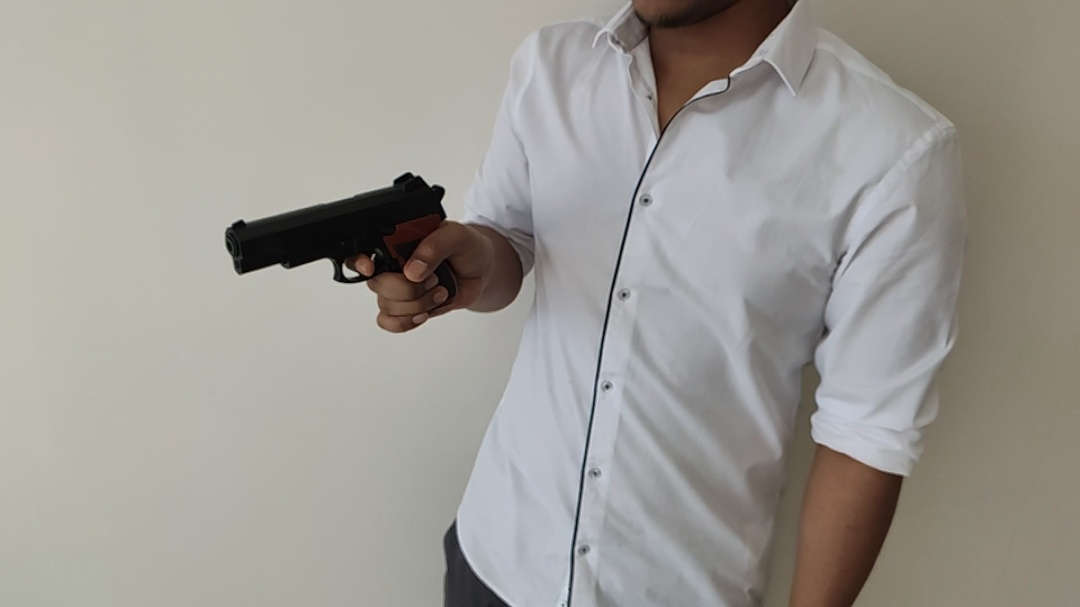gun: (224, 171, 449, 283)
